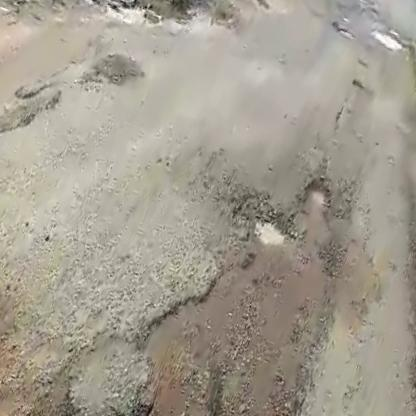pothole: (229, 195, 302, 264), (295, 171, 342, 219), (366, 25, 408, 55)
